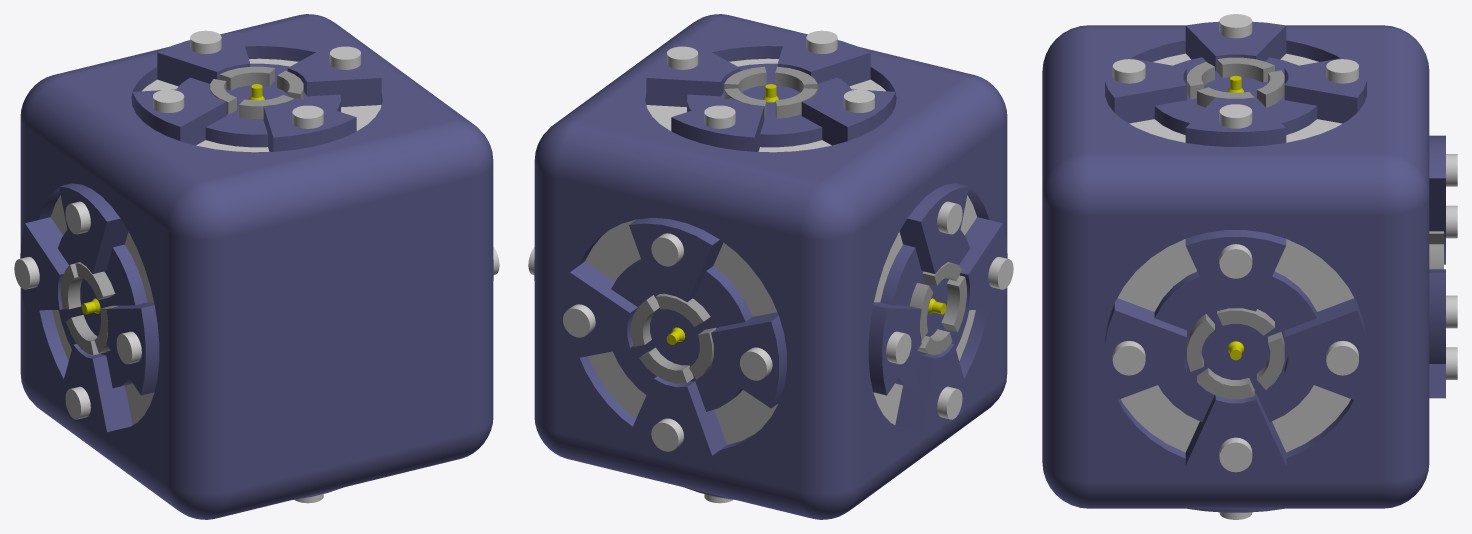
The model's file is battery.dae.
3 renders of one model, left to right at view 1: azimuth 30°, elevation 25°; view 2: azimuth 150°, elevation 25°; view 3: azimuth 270°, elevation 25°, orthographic. The views are drawn at different scales.
Parts seen in each view (by area): view 1: Actor0; view 2: Actor0; view 3: Actor0.
Boxes of the visible parts, bbox=[...] form: Actor0: bbox=[14, 14, 499, 519]; Actor0: bbox=[528, 14, 1013, 519]; Actor0: bbox=[1042, 14, 1457, 519].
Size of the model in its own units: 0.048 by 0.048 by 0.045.
